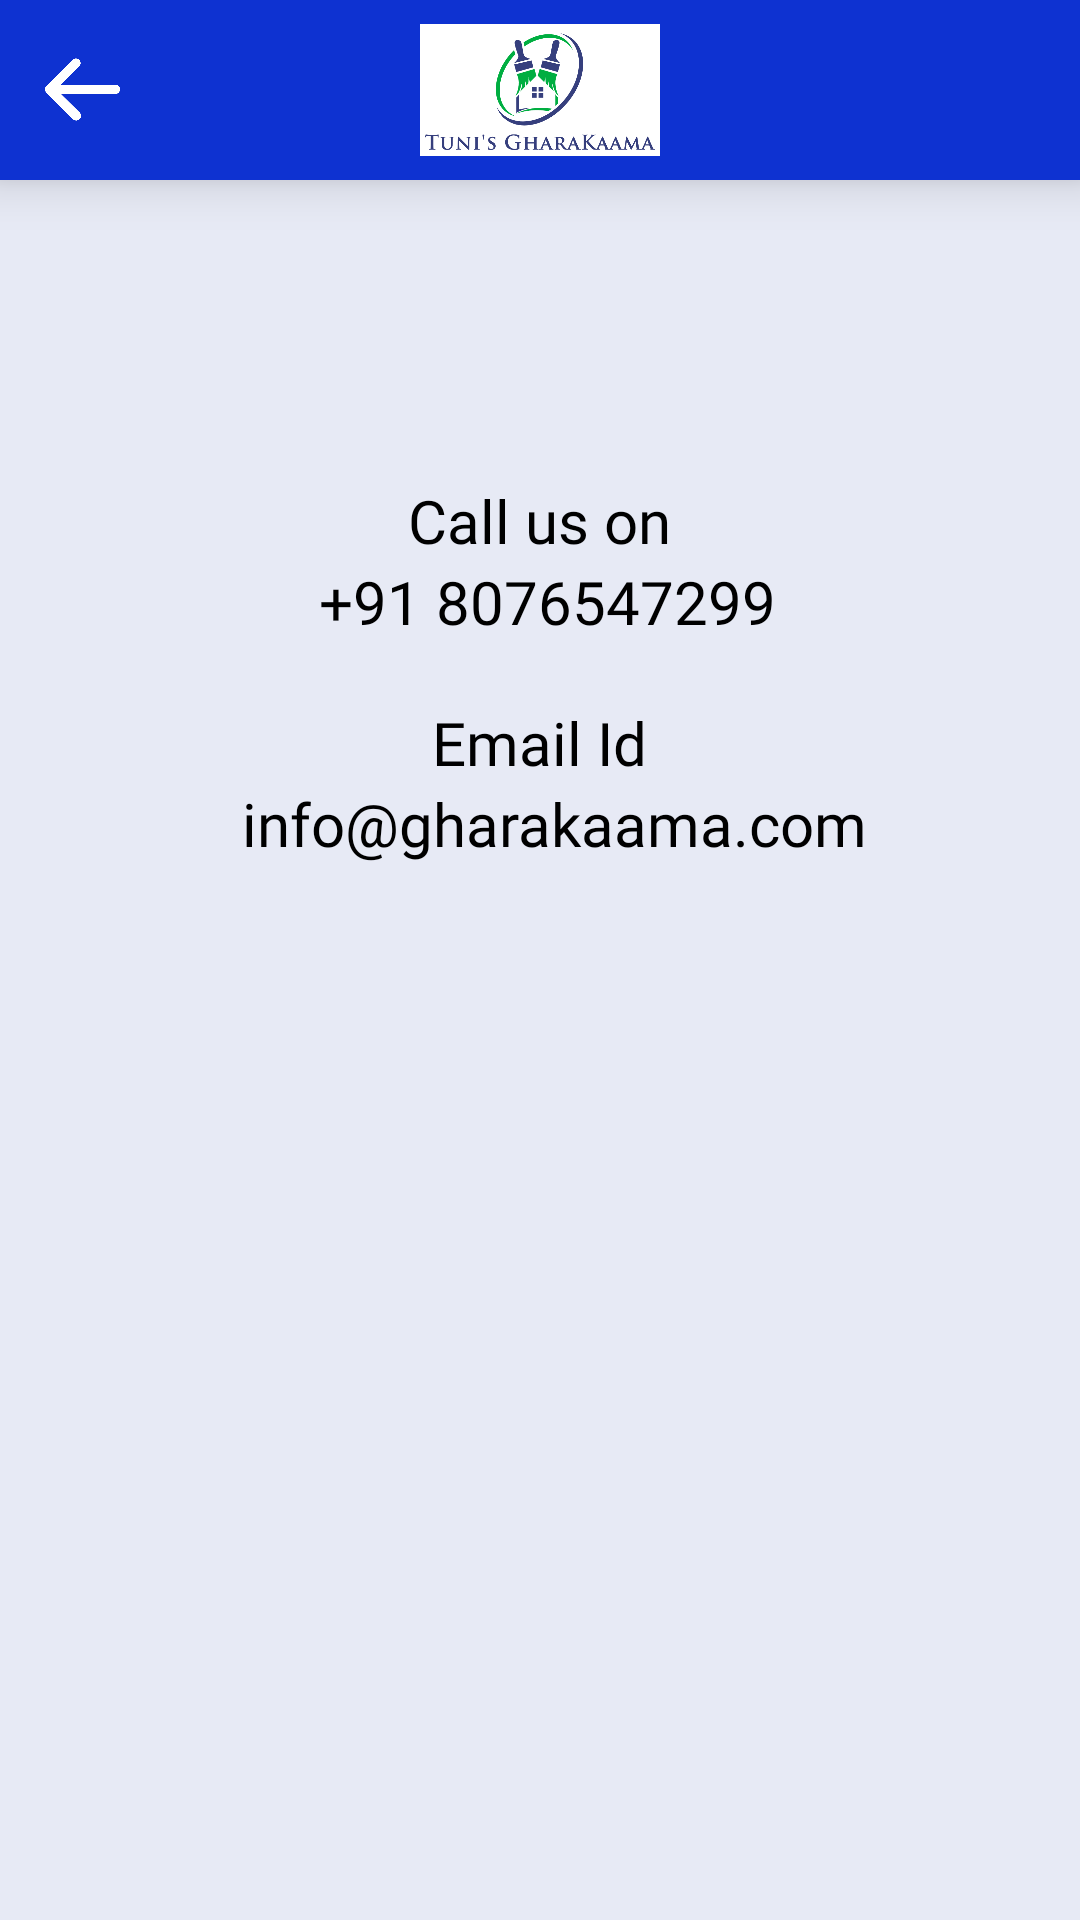

Named icons in this screenshot (1080×1920) and their bounding boxes, (x1, y1, x2, y2):
arrow left: (45, 58, 120, 121)
